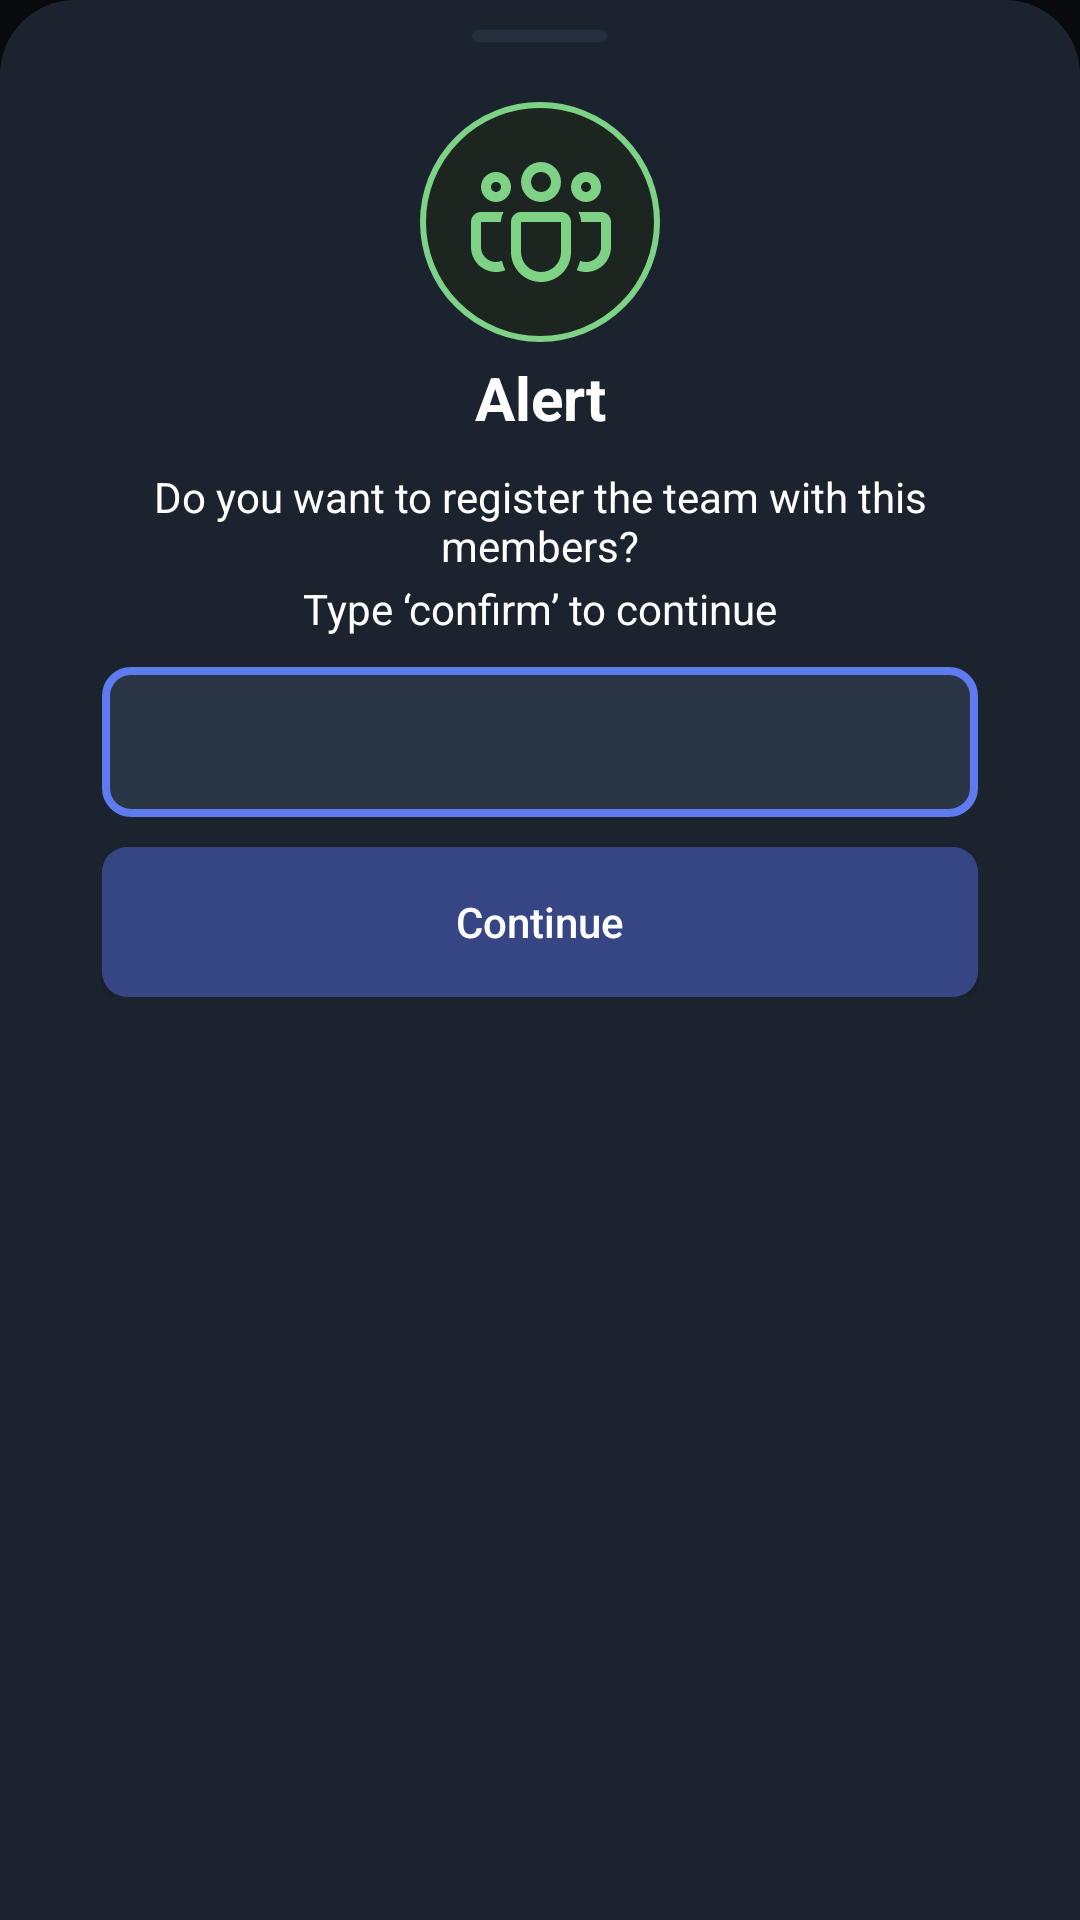

Named icons in this screenshot (1080w x 1920h) and their centers, (x,y):
groupregister: (540,222)
